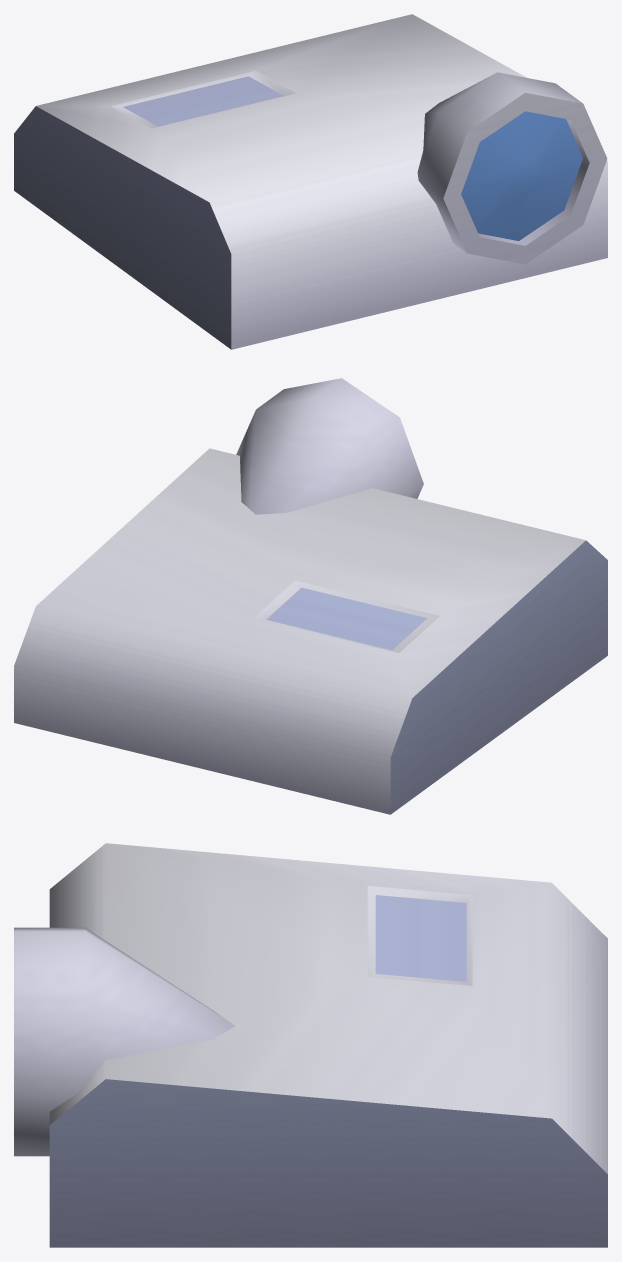
The model's file is projector.fbx.
The picture shows the model from 3 angles, top to bottom: view 1: azimuth 30°, elevation 25°; view 2: azimuth 150°, elevation 25°; view 3: azimuth 270°, elevation 25°; orthographic projection. The views are drawn at different scales.
Parts seen in each view (by area): view 1: projector; view 2: projector; view 3: projector.
Part boxes in pixels (x1=…): projector: x1=14, y1=14, x2=607, y2=349; projector: x1=14, y1=378, x2=607, y2=814; projector: x1=14, y1=843, x2=607, y2=1247.
Bounding box in the file's own units: 0.312 × 0.332 × 0.1575.
